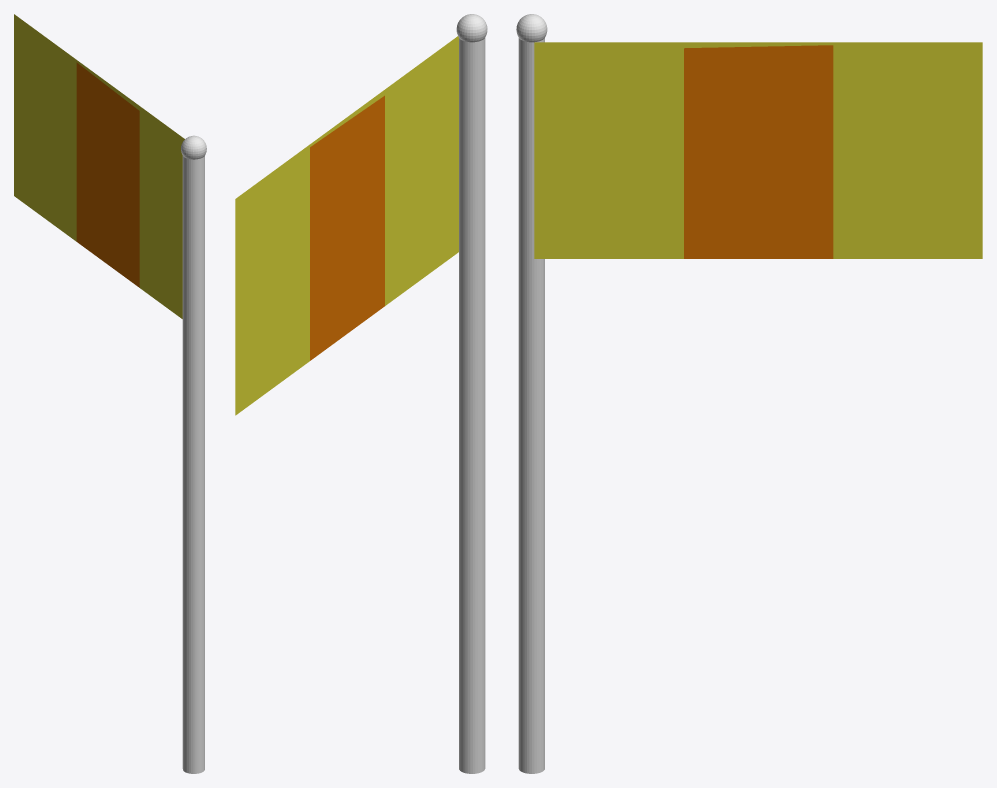
The model's file is Flag.fbx.
The picture shows the model from 3 angles, left to right: view 1: azimuth 30°, elevation 25°; view 2: azimuth 150°, elevation 25°; view 3: azimuth 270°, elevation 25°; orthographic projection. The views are drawn at different scales.
Visible parts, largest first — view 1: Circle; view 2: Circle; view 3: Circle.
Part boxes in pixels (<box>): Circle: <box>14,14,206,773</box>; Circle: <box>235,14,487,773</box>; Circle: <box>516,14,982,773</box>.
Size of the model in its own units: 235 by 6284 by 3526.
